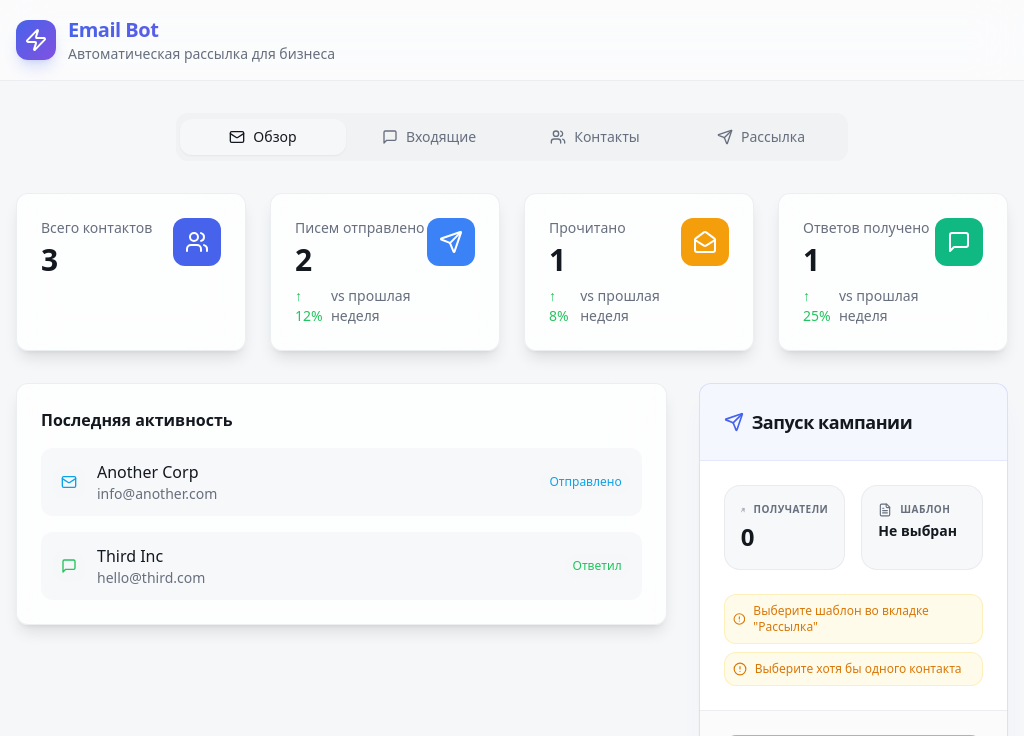
Test: App › contact selection › toggles contact selection
The width and height of the screenshot is (1024, 736).
// Navigate to contacts tab
Click the tab "Контакты": (595, 137) [512,119,678,155]
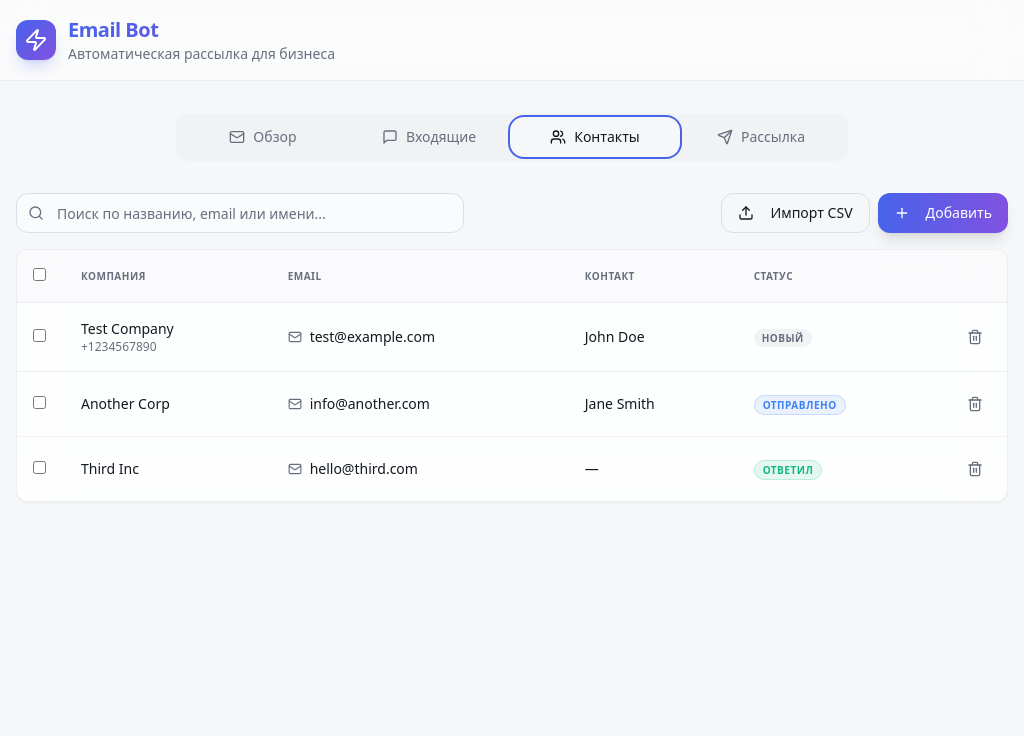
Result: the text "Test Company" is shown at [81,319,174,338]
